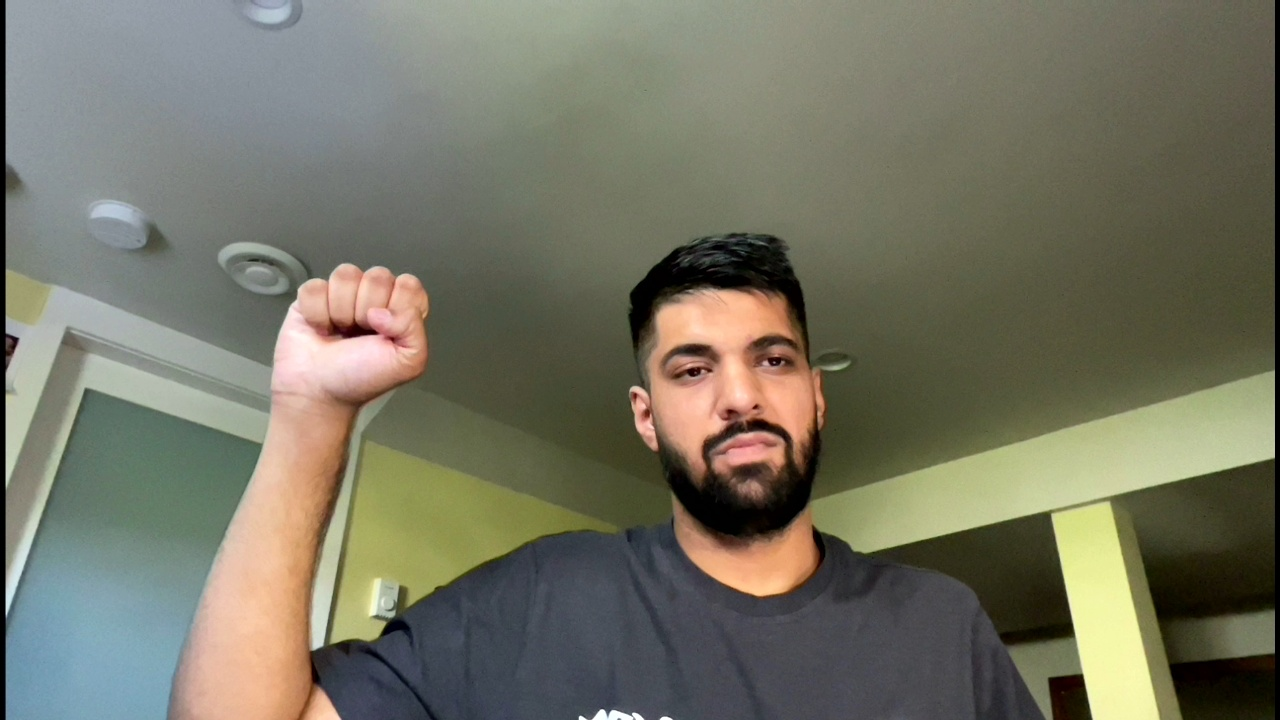No: (255, 260, 448, 405)
